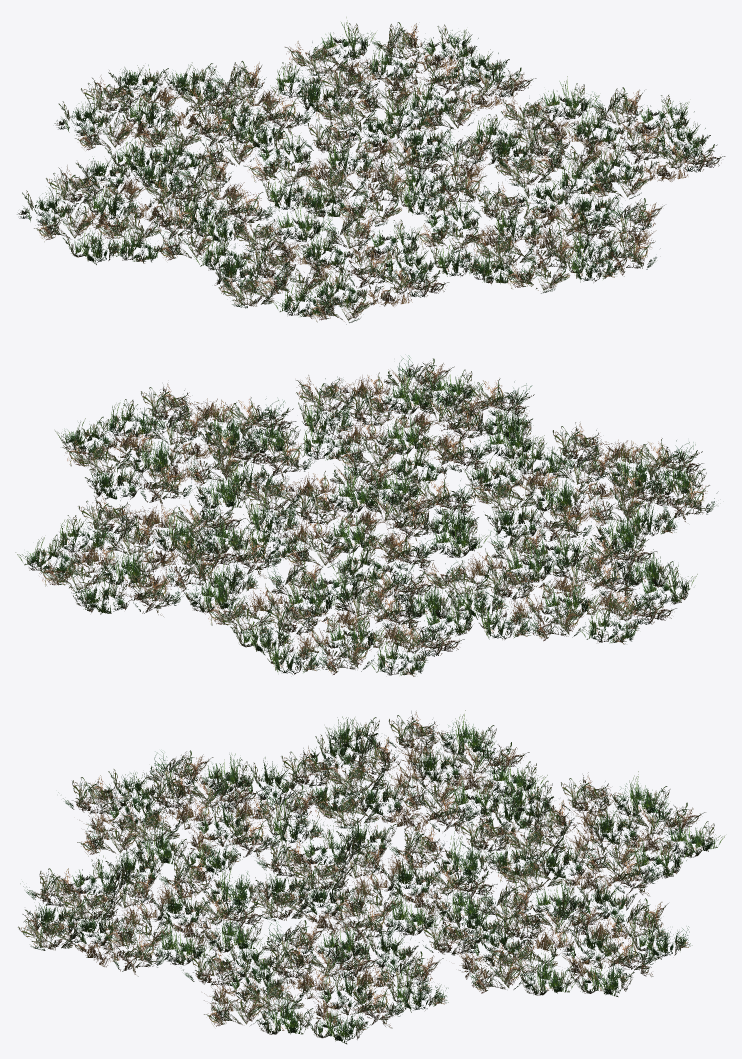
The model's file is grass_big_short.fbx.
The picture shows the model from 3 angles, top to bottom: view 1: azimuth 30°, elevation 25°; view 2: azimuth 150°, elevation 25°; view 3: azimuth 270°, elevation 25°; orthographic projection. The views are drawn at different scales.
Parts seen in each view (by area): view 1: leaf_bigpatch_medium_mesh; view 2: leaf_bigpatch_medium_mesh; view 3: leaf_bigpatch_medium_mesh.
Part boxes in pixels (bbox=[...]): leaf_bigpatch_medium_mesh: bbox=[17, 17, 725, 324]; leaf_bigpatch_medium_mesh: bbox=[15, 354, 718, 676]; leaf_bigpatch_medium_mesh: bbox=[18, 710, 724, 1044].
Bounding box in the file's own units: 45.2 × 2.5 × 42.22.
Materials: 1 (1 with a texture image).
